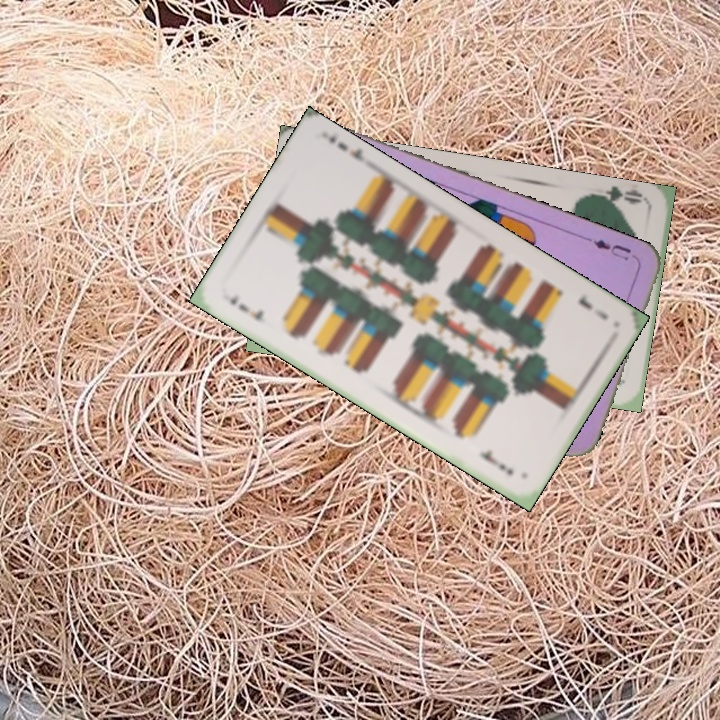E7: (225, 290, 269, 326), (574, 290, 610, 322)
EU: (584, 234, 641, 264)
GO: (589, 184, 648, 213)
